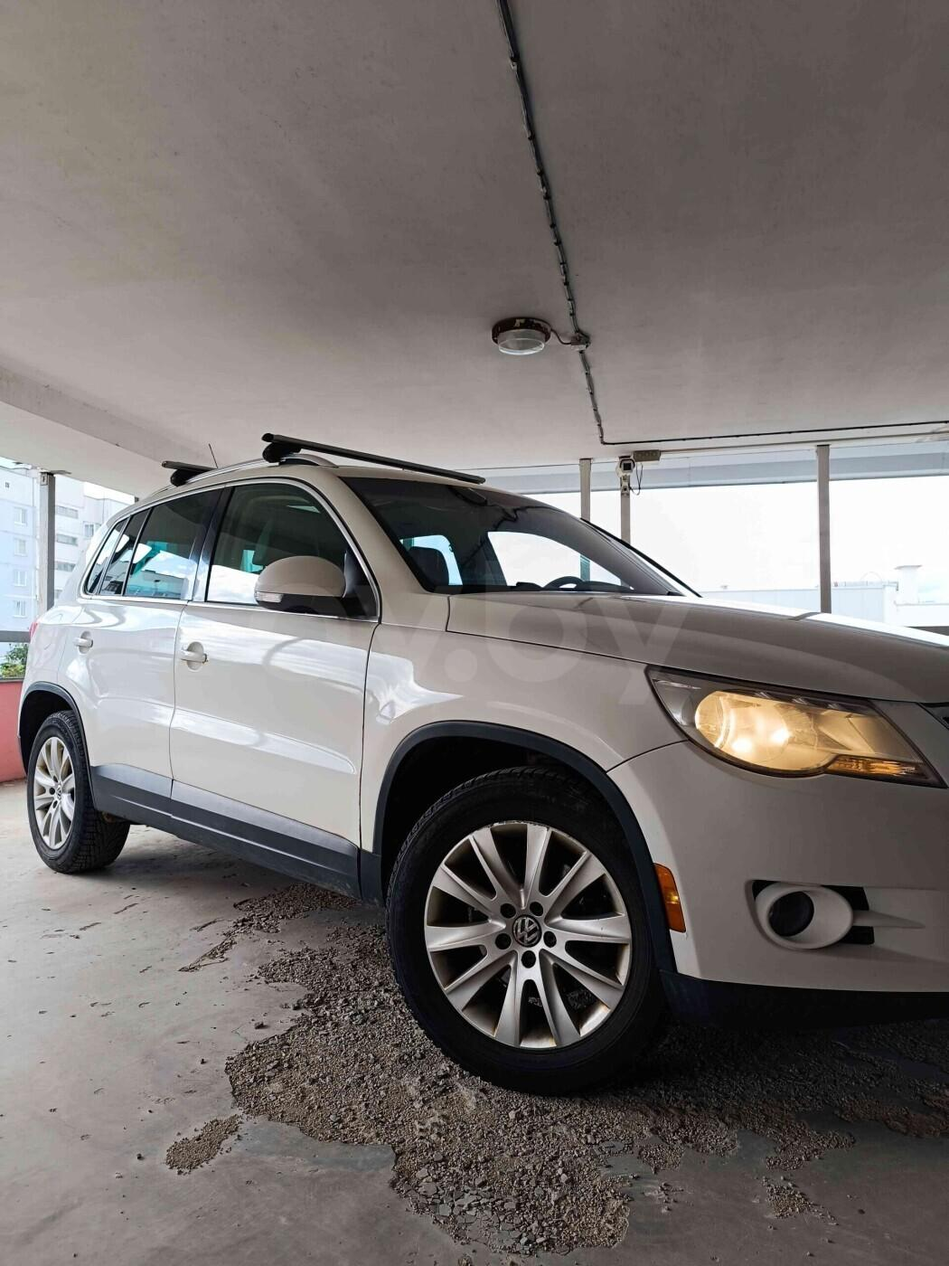Tiguan_2007-2011: (11, 461, 949, 1076)
